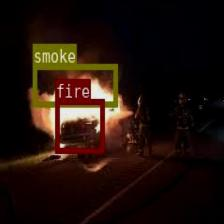fire: (55, 98, 103, 152)
smoke: (32, 64, 116, 106)
